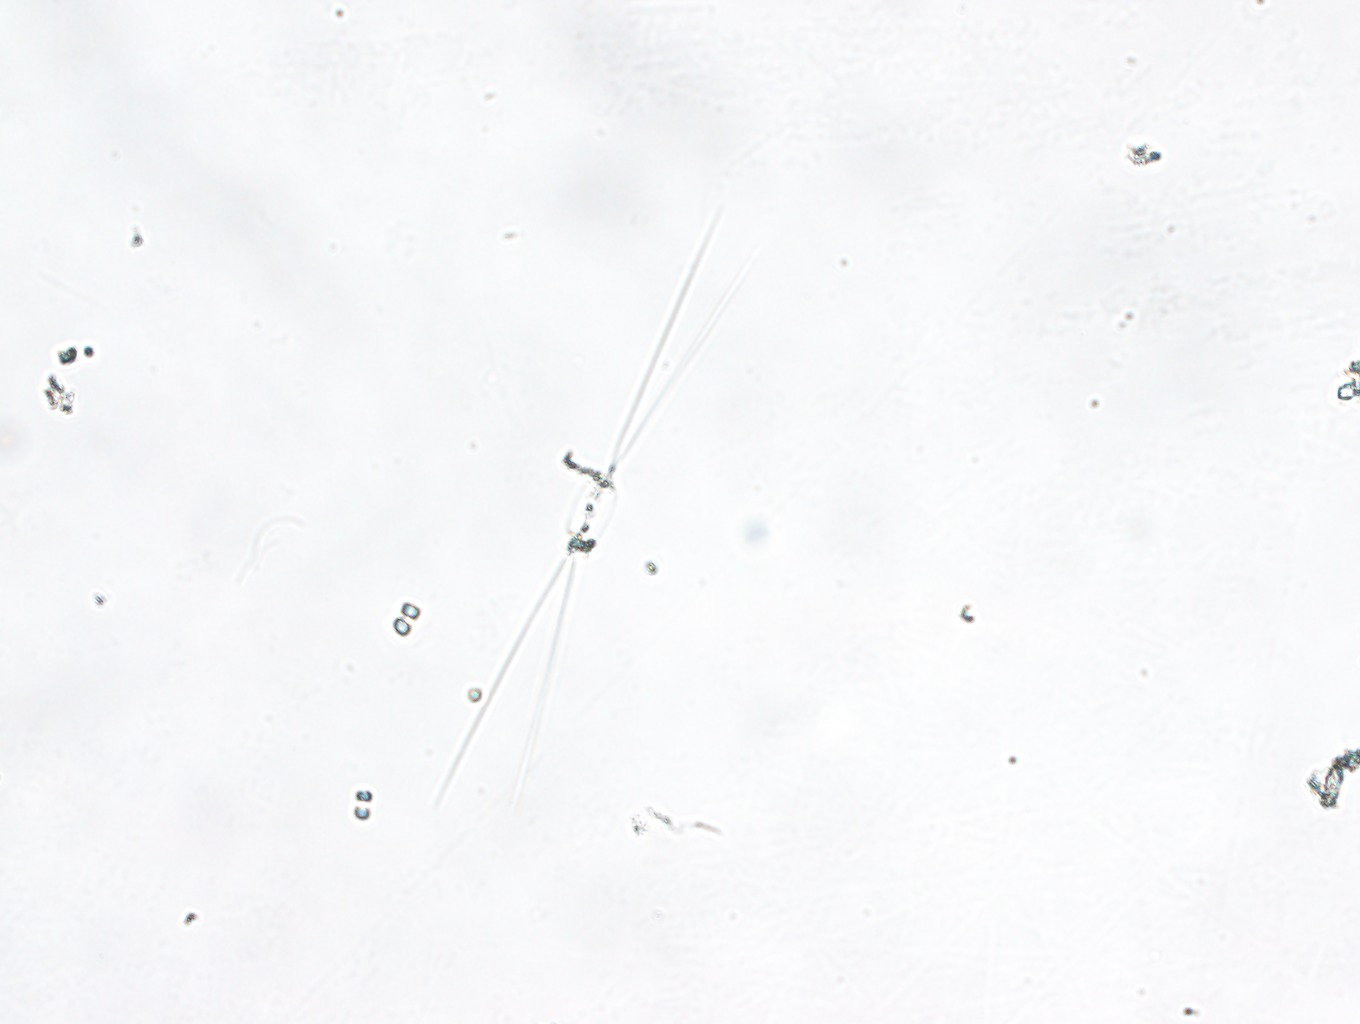chaetoceros: (435, 201, 749, 817)
